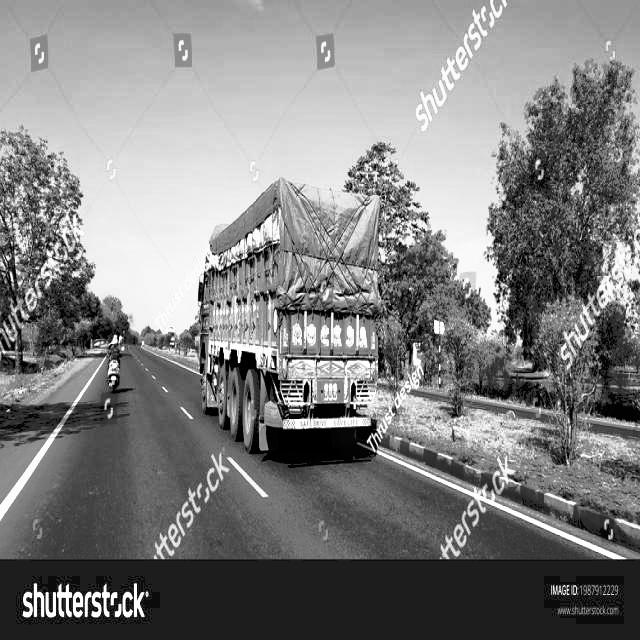HCV: (170, 124, 417, 497)
